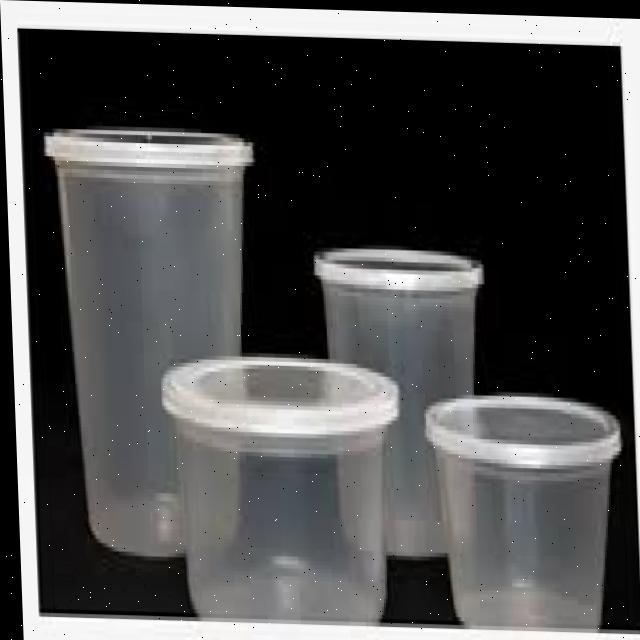disposable: (155, 342, 406, 631), (417, 373, 622, 634)
